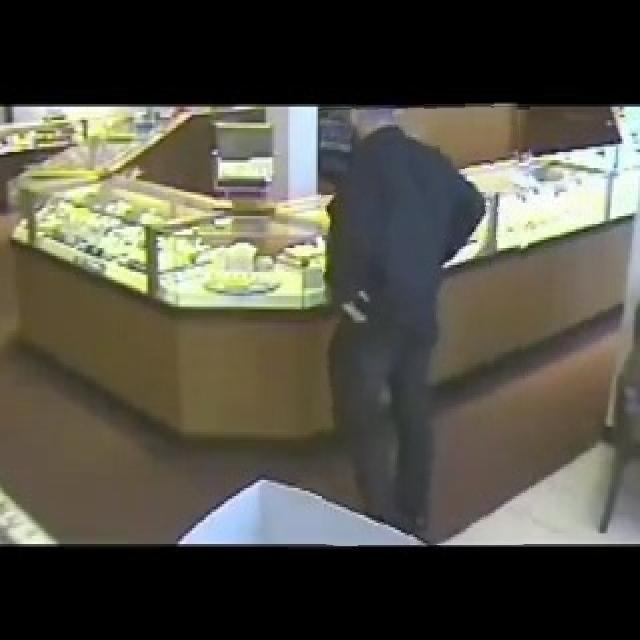normal: (322, 103, 530, 545)
